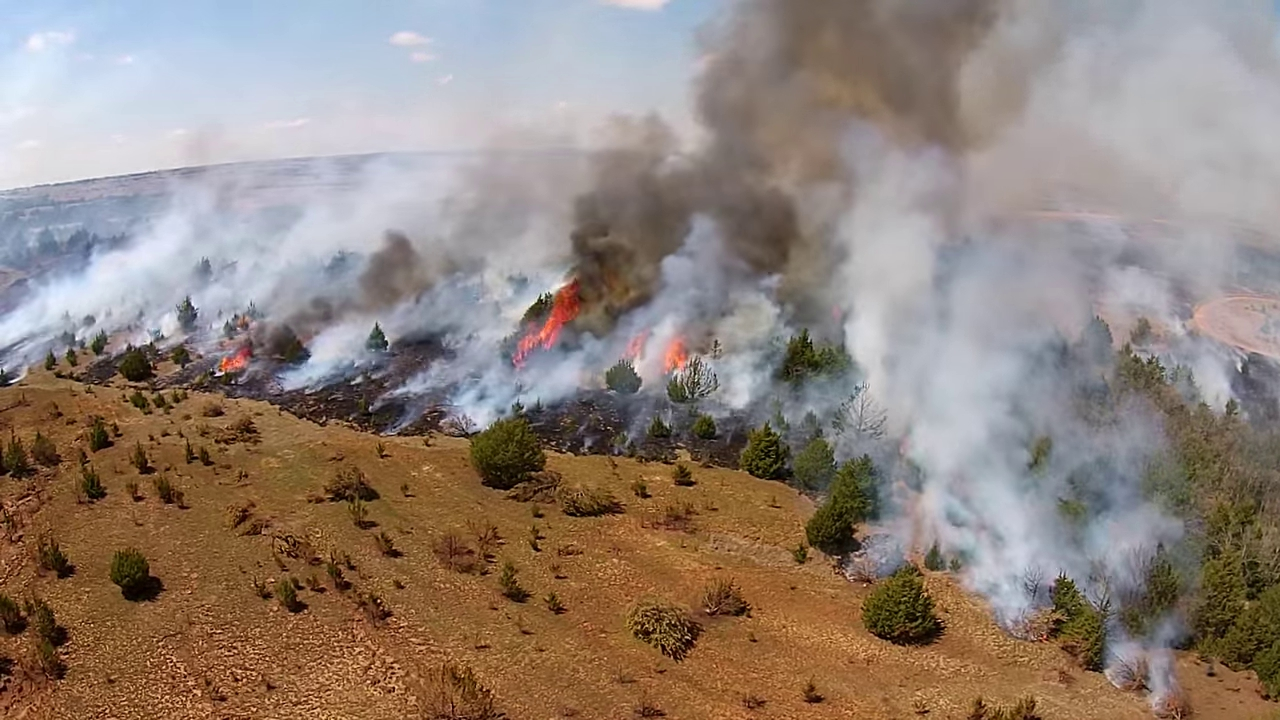forest_fire: (511, 279, 580, 366), (662, 336, 691, 372), (217, 346, 251, 373), (623, 333, 646, 358)
